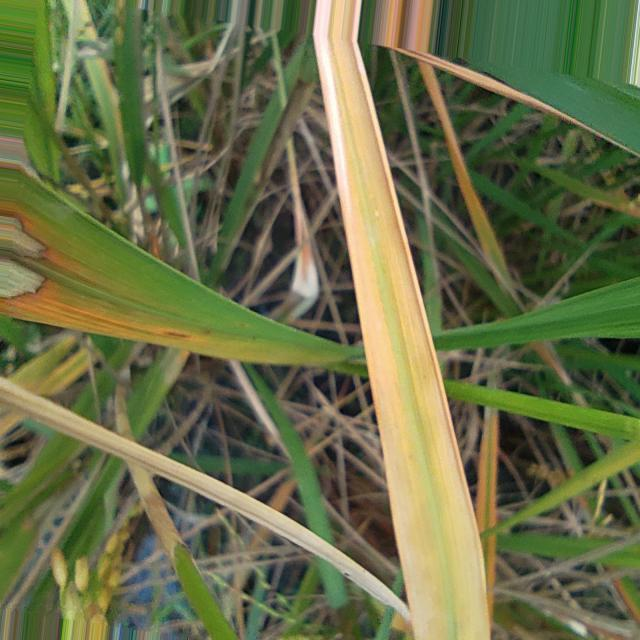Leaf_Blast: (315, 35, 490, 638)
Rice False Smut: (0, 378, 410, 620), (0, 215, 44, 298), (0, 260, 45, 296)
